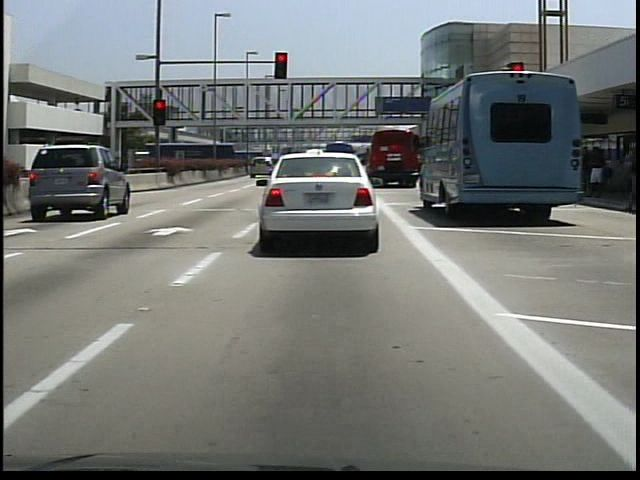car: (402, 68, 573, 230), (255, 147, 375, 248), (30, 144, 135, 222)
